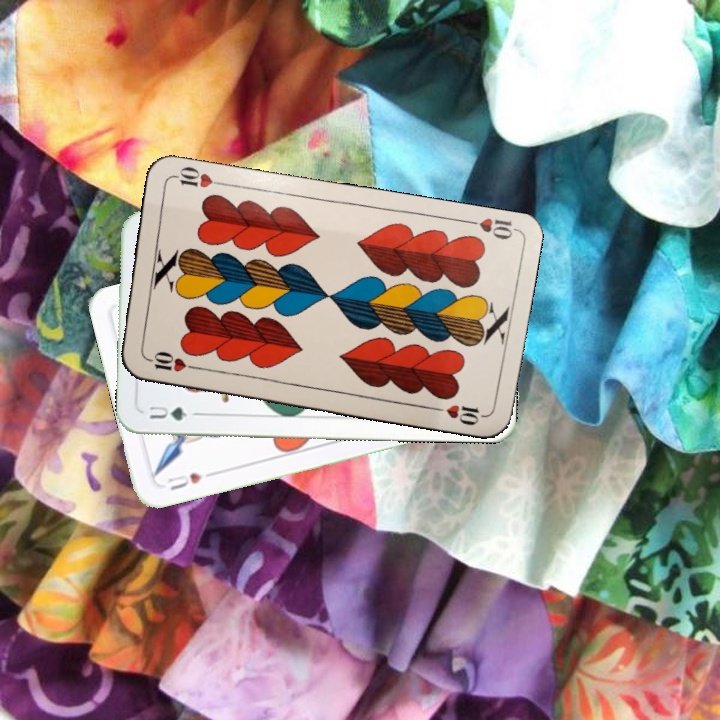GU: (145, 402, 190, 423)
H10: (458, 214, 517, 242), (142, 348, 201, 375)
HU: (163, 468, 205, 493)
